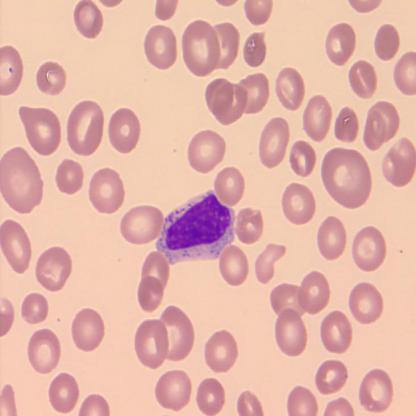Myelocyte: (158, 187, 236, 262)
